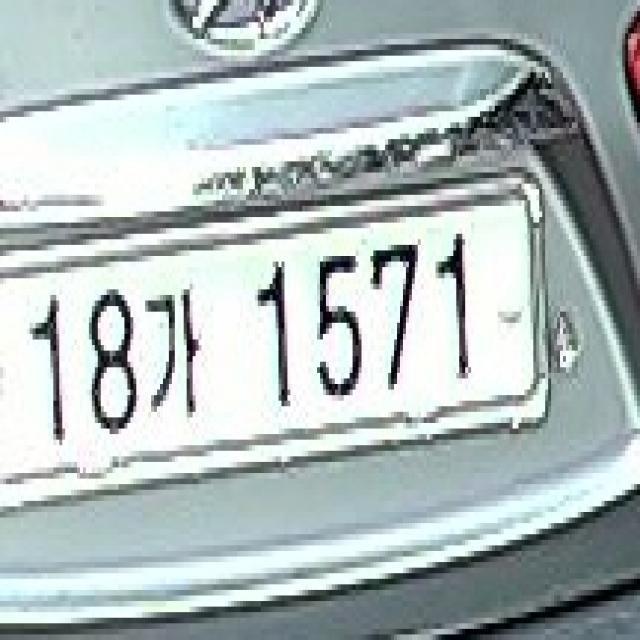1: (27, 272, 80, 468), (430, 206, 486, 389), (255, 250, 302, 423)
5: (311, 228, 370, 412)
7: (364, 217, 432, 401)
8: (80, 278, 142, 451)
ga: (142, 278, 216, 434)
license_plate: (3, 162, 557, 534)
